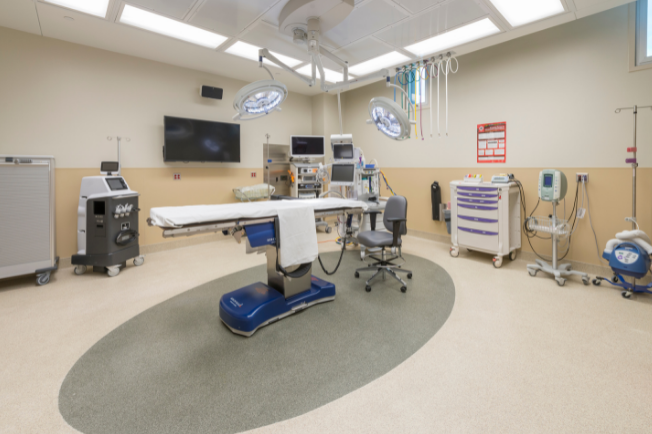TV: (163, 116, 244, 169)
bedside_monitor: (289, 135, 325, 159), (331, 163, 355, 183), (334, 144, 354, 159)
chair: (355, 194, 413, 292)
iv_pole: (614, 105, 652, 216)
medical_drawer: (448, 173, 519, 269)
operating_bed: (146, 198, 382, 337)
surgical_light: (232, 79, 289, 118), (367, 95, 412, 141)
